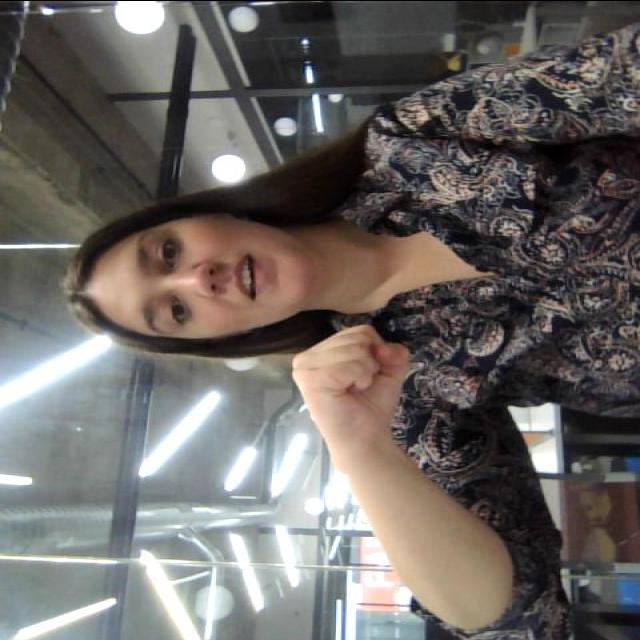Rock: (286, 319, 424, 447)
